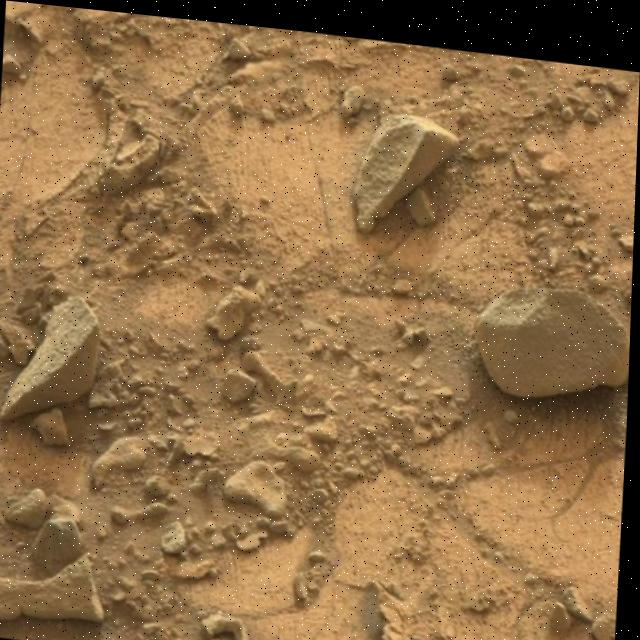mars-rocks: (477, 276, 632, 385), (354, 104, 459, 223), (2, 295, 100, 419), (0, 554, 107, 622)
